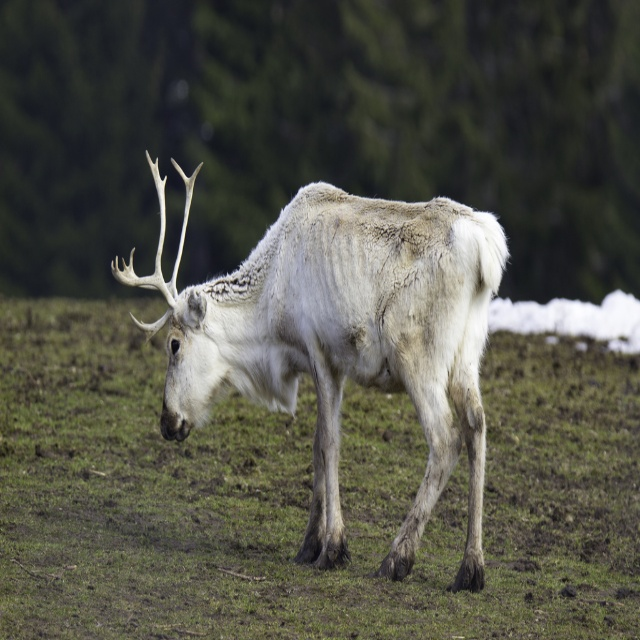Deer: (111, 150, 514, 593)
